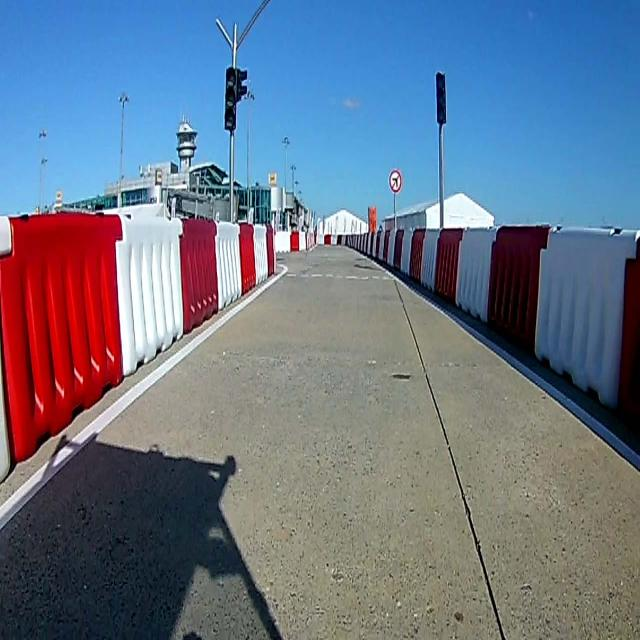soladonulmez: (388, 167, 402, 194)
